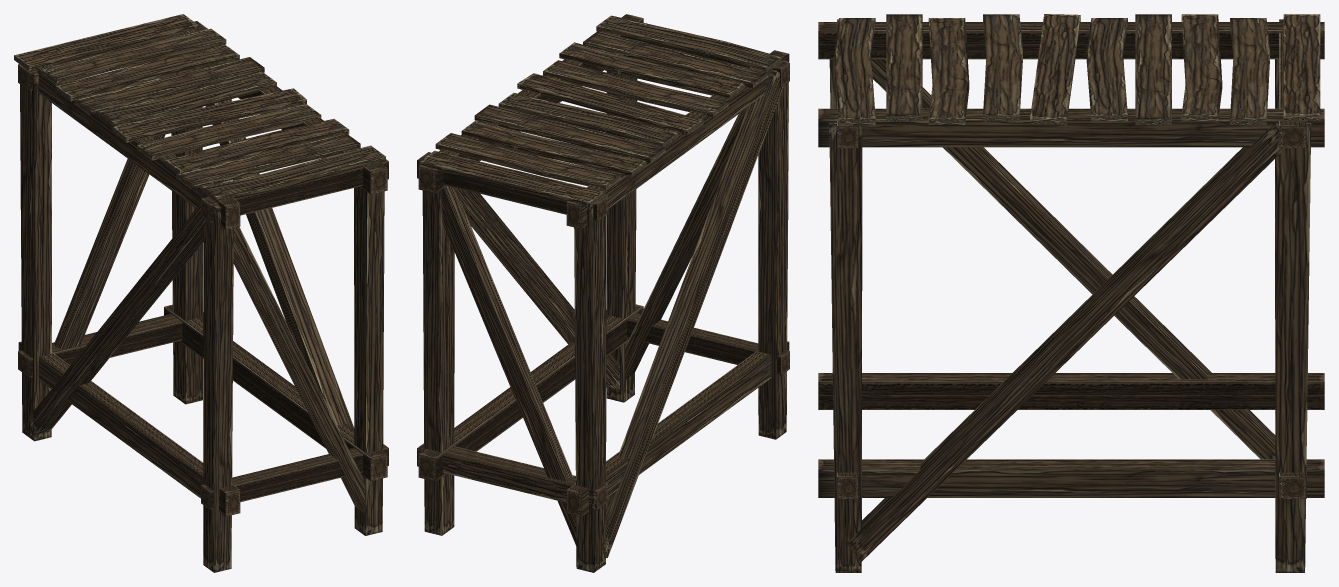
File: Wood_4X8X8_01.fbx
3 views of the same model, side by side, from view 1: azimuth 30°, elevation 25°; view 2: azimuth 150°, elevation 25°; view 3: azimuth 270°, elevation 25° (orthographic). The views are drawn at different scales.
Visible parts, largest first — view 1: Wood_4X8X8_01; view 2: Wood_4X8X8_01; view 3: Wood_4X8X8_01.
Part boxes in pixels (x1=…): Wood_4X8X8_01: x1=14, y1=14, x2=388, y2=572; Wood_4X8X8_01: x1=417, y1=14, x2=789, y2=572; Wood_4X8X8_01: x1=818, y1=14, x2=1324, y2=572.
Size of the model in its own units: 4 by 7.97 by 8.
